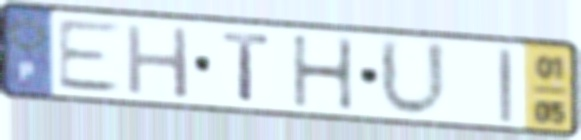E: (54, 18, 126, 96)
H: (123, 20, 193, 102), (288, 33, 357, 113)
I: (493, 45, 517, 125)
T: (219, 29, 275, 105)
U: (375, 34, 453, 122)
